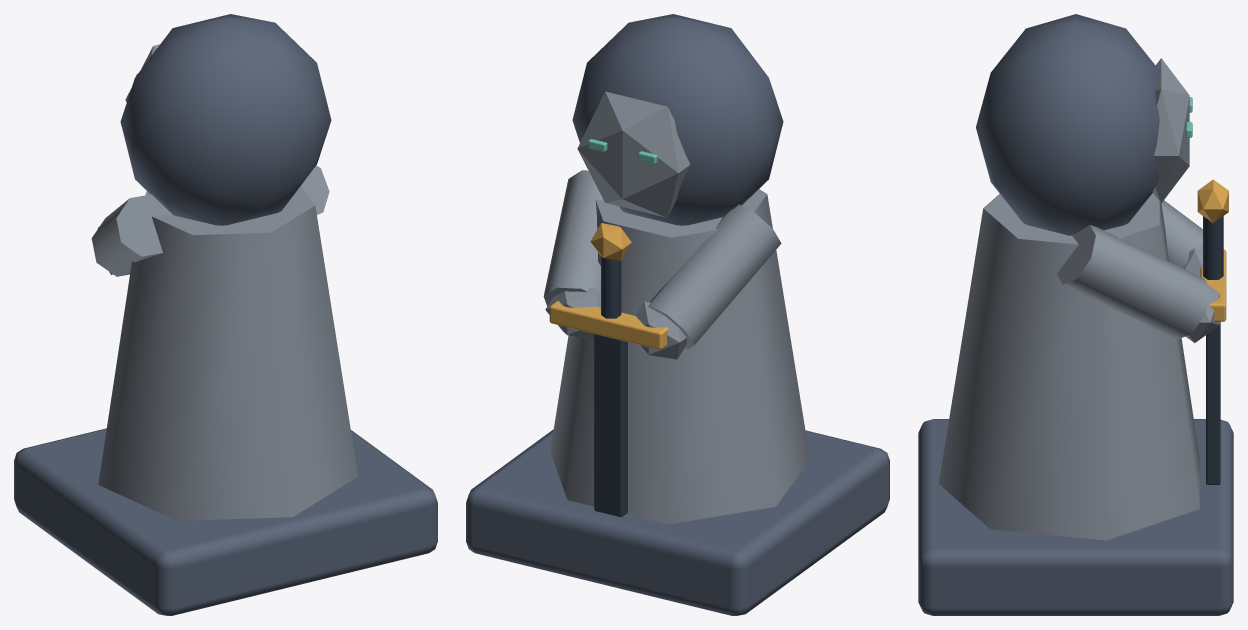
Rendered from guardian-idol.glb.
The picture shows the model from 3 angles, left to right: view 1: azimuth 30°, elevation 25°; view 2: azimuth 150°, elevation 25°; view 3: azimuth 270°, elevation 25°; orthographic projection. The views are drawn at different scales.
Parts seen in each view (by area): view 1: robe, pedestal, hood, arm--1, arm-1; view 2: robe, pedestal, hood, face, arm--1, sword-blade, arm-1, guard, hand--1, grip, pommel, hand-1; view 3: robe, pedestal, hood, arm-1, face, sword-blade, arm--1, grip, pommel, guard, hand-1.
Part boxes in pixels (left/top/right/bottom): robe: left=98, top=186, right=357, bottom=520; pedestal: left=14, top=428, right=437, bottom=615; hood: left=120, top=14, right=331, bottom=225; arm--1: left=91, top=194, right=172, bottom=276; arm-1: left=301, top=165, right=329, bottom=214; robe: left=550, top=189, right=809, bottom=524; pedestal: left=466, top=429, right=889, bottom=615; hood: left=572, top=14, right=783, bottom=225; face: left=577, top=91, right=690, bottom=217; arm--1: left=648, top=204, right=781, bottom=348; sword-blade: left=594, top=334, right=627, bottom=516; arm-1: left=543, top=170, right=602, bottom=306; guard: left=549, top=301, right=668, bottom=349; hand--1: left=635, top=301, right=687, bottom=359; grip: left=601, top=256, right=621, bottom=318; pommel: left=590, top=223, right=631, bottom=260; hand-1: left=545, top=288, right=600, bottom=339; robe: left=938, top=193, right=1199, bottom=540; pedestal: left=918, top=419, right=1233, bottom=615; hood: left=976, top=14, right=1161, bottom=235; arm-1: left=1057, top=225, right=1210, bottom=339; face: left=1152, top=58, right=1189, bottom=203; sword-blade: left=1206, top=321, right=1220, bottom=484; arm--1: left=1161, top=200, right=1202, bottom=266; grip: left=1203, top=216, right=1223, bottom=279; pommel: left=1197, top=179, right=1228, bottom=223; guard: left=1200, top=249, right=1226, bottom=321; hand-1: left=1185, top=285, right=1219, bottom=342.
Bounding box in the file's own units: 0.9 × 1.57 × 0.85.
